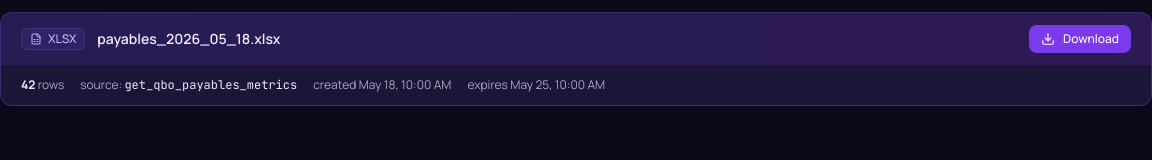
Test case: FinanceExportArtifact error envelopes › 410 shows the expired message
This screenshot has width=1152, height=160.
Click the button with test id "finance-export-download": x=1080, y=39 [1029,25,1131,53]
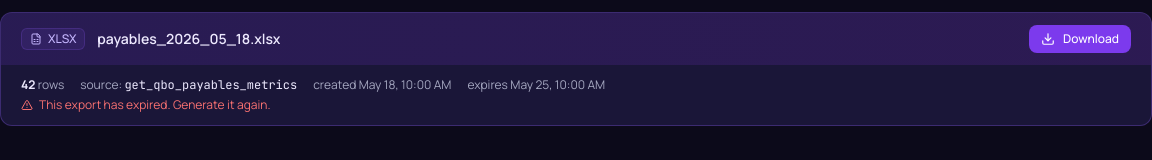
Expected: the element with test id "finance-export-error" is shown, [21,96,270,113]
Expected: the element with test id "finance-export-error" reads "This export has expired. Generate it again.", [39,96,270,113]
